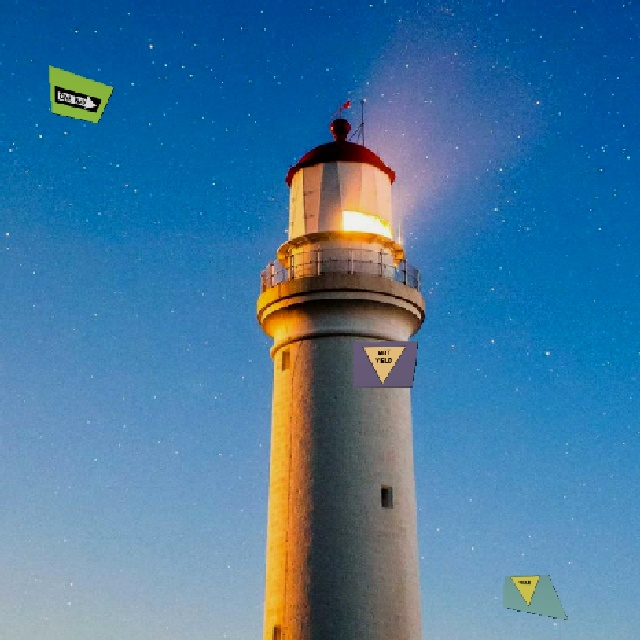NOT_YIELD: (359, 345, 405, 383)
ONE_WAY_ right: (51, 84, 101, 114)
YIELD: (509, 575, 551, 609)
